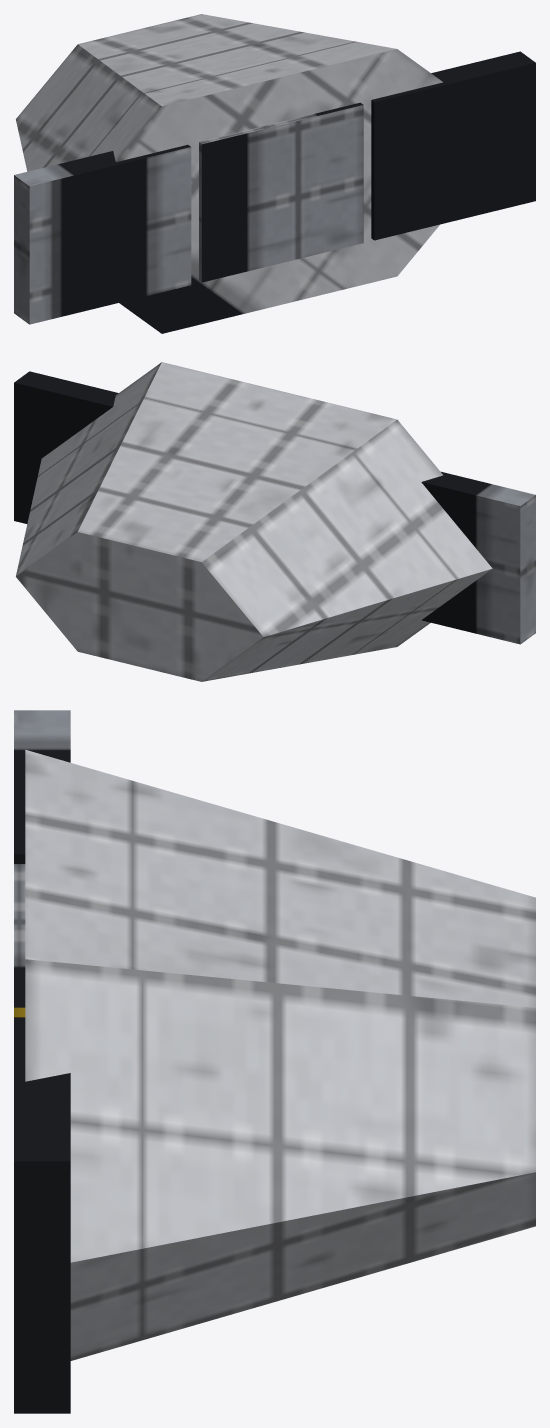
Rendered from ship_hull_junction.obj.
The picture shows the model from 3 angles, top to bottom: view 1: azimuth 30°, elevation 25°; view 2: azimuth 150°, elevation 25°; view 3: azimuth 270°, elevation 25°; orthographic projection. The views are drawn at different scales.
Parts seen in each view (by area): view 1: mounts, body; view 2: body, mounts; view 3: body, mounts.
Part boxes in pixels (left/top/right/bottom): mounts: left=14, top=51, right=535, bottom=324; body: left=16, top=14, right=442, bottom=333; body: left=16, top=362, right=492, bottom=681; mounts: left=14, top=371, right=535, bottom=644; body: left=25, top=749, right=535, bottom=1360; mounts: left=14, top=710, right=70, bottom=1413.
Size of the model in its own units: 3.76 by 1.61 by 1.84.
Materials: 4 (4 with a texture image).
